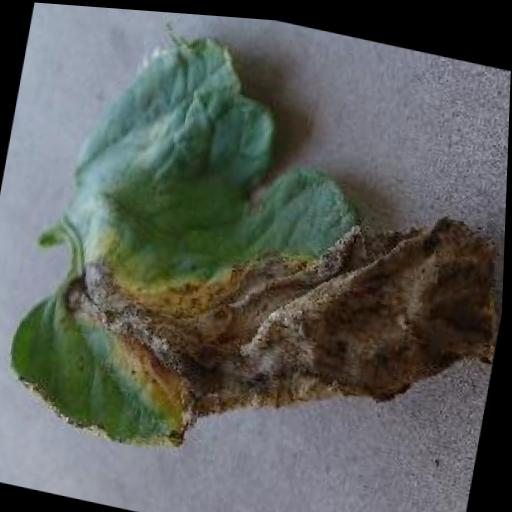Early Blight: (0, 5, 512, 512)
